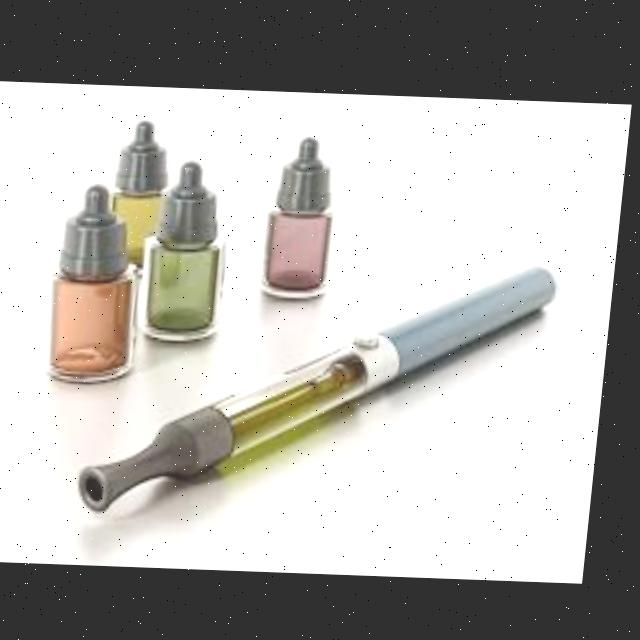vape: (87, 249, 564, 524)
